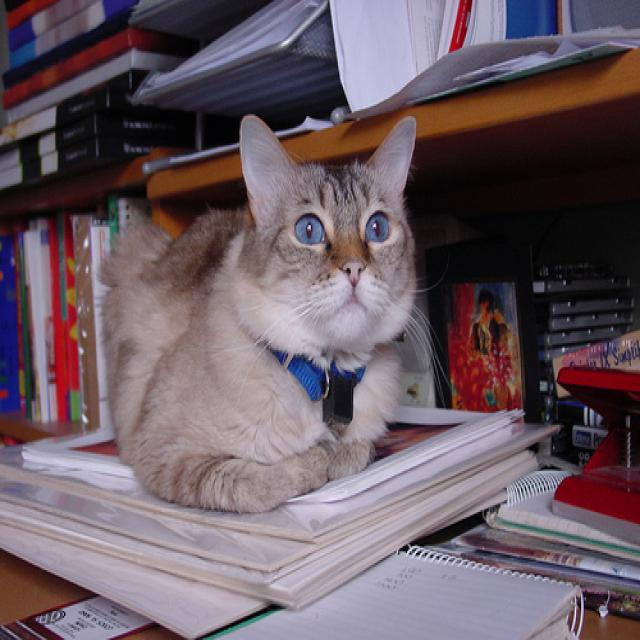cat: (98, 112, 452, 515)
